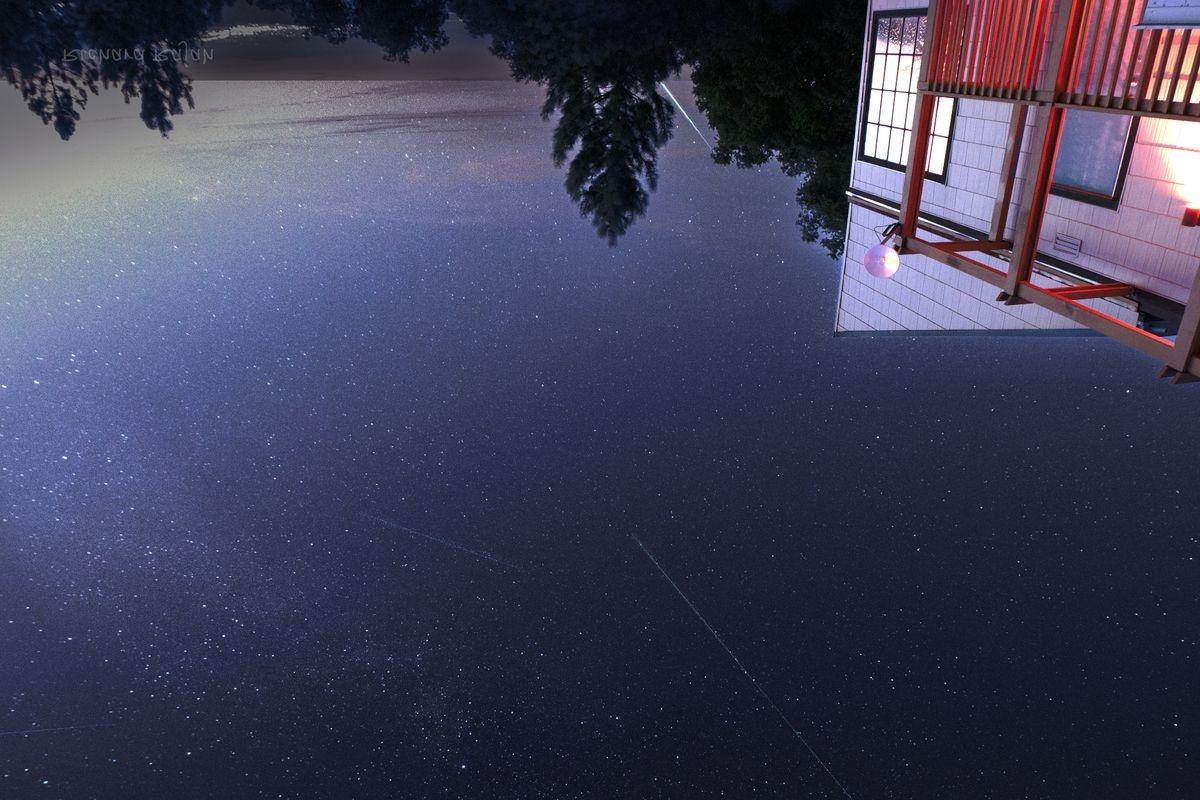meteorite: (600, 516, 825, 735), (649, 76, 720, 172)
